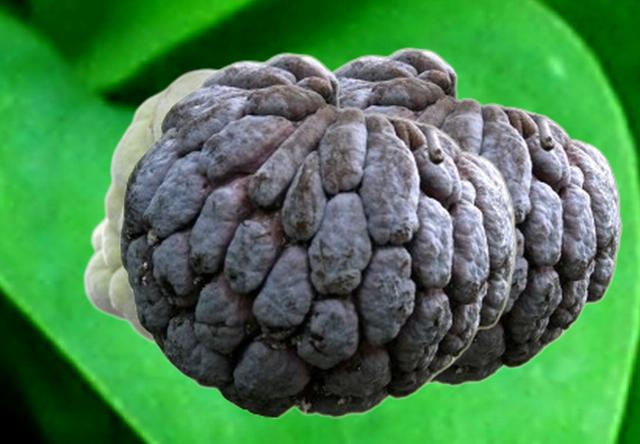atis: (119, 51, 516, 417), (332, 46, 621, 385), (82, 65, 221, 347)
